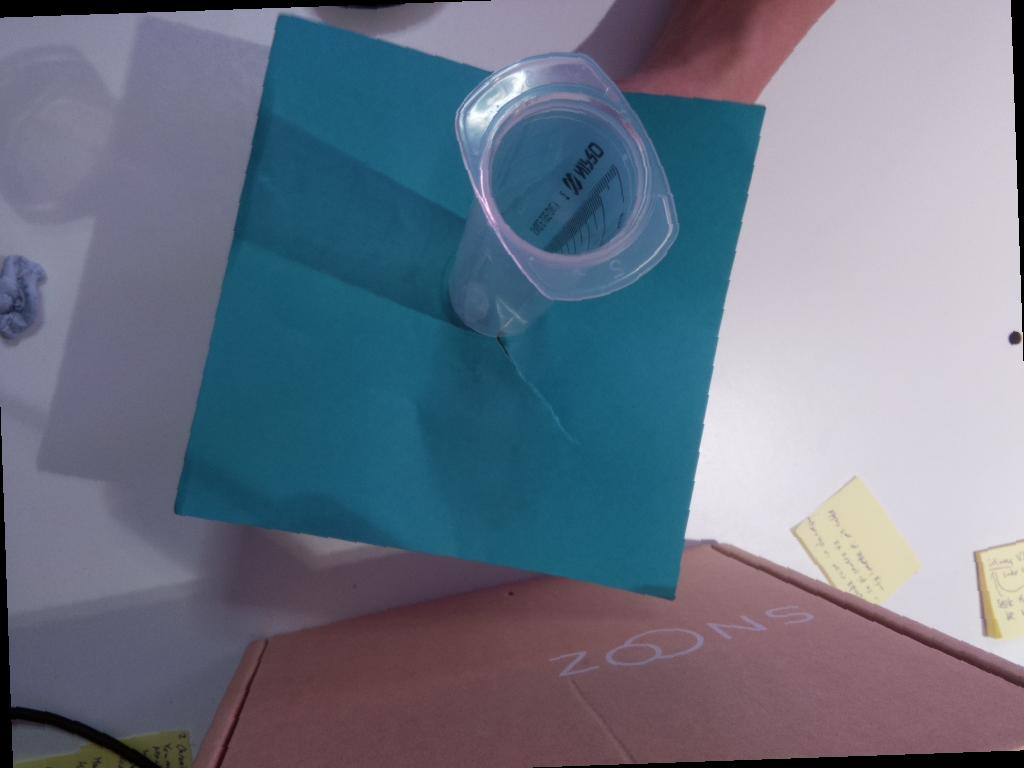clean: (453, 52, 683, 304)
